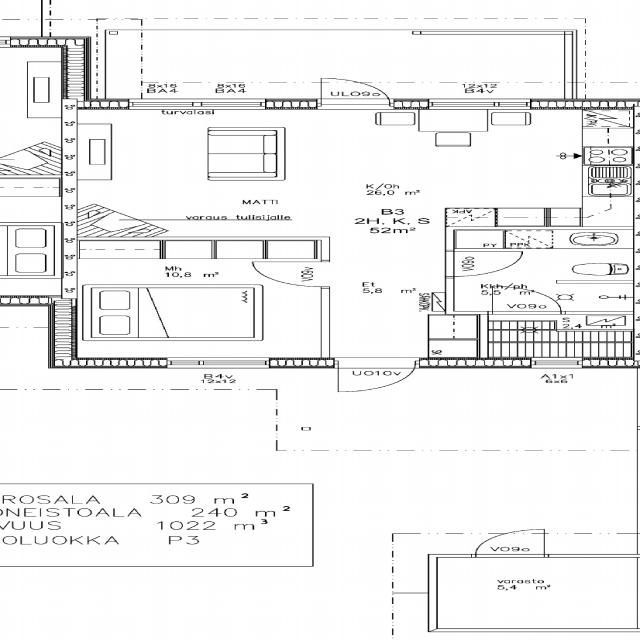door: (337, 358, 415, 397), (320, 74, 390, 108), (492, 286, 561, 314), (475, 530, 544, 558), (445, 252, 522, 276), (253, 262, 329, 286)
